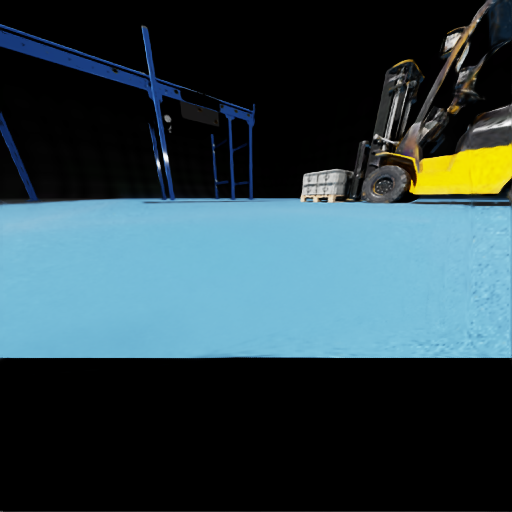transportation_area: (317, 183, 350, 194), (22, 44, 24, 45), (165, 89, 166, 90), (149, 84, 150, 85), (69, 59, 70, 60), (3, 32, 4, 33)
